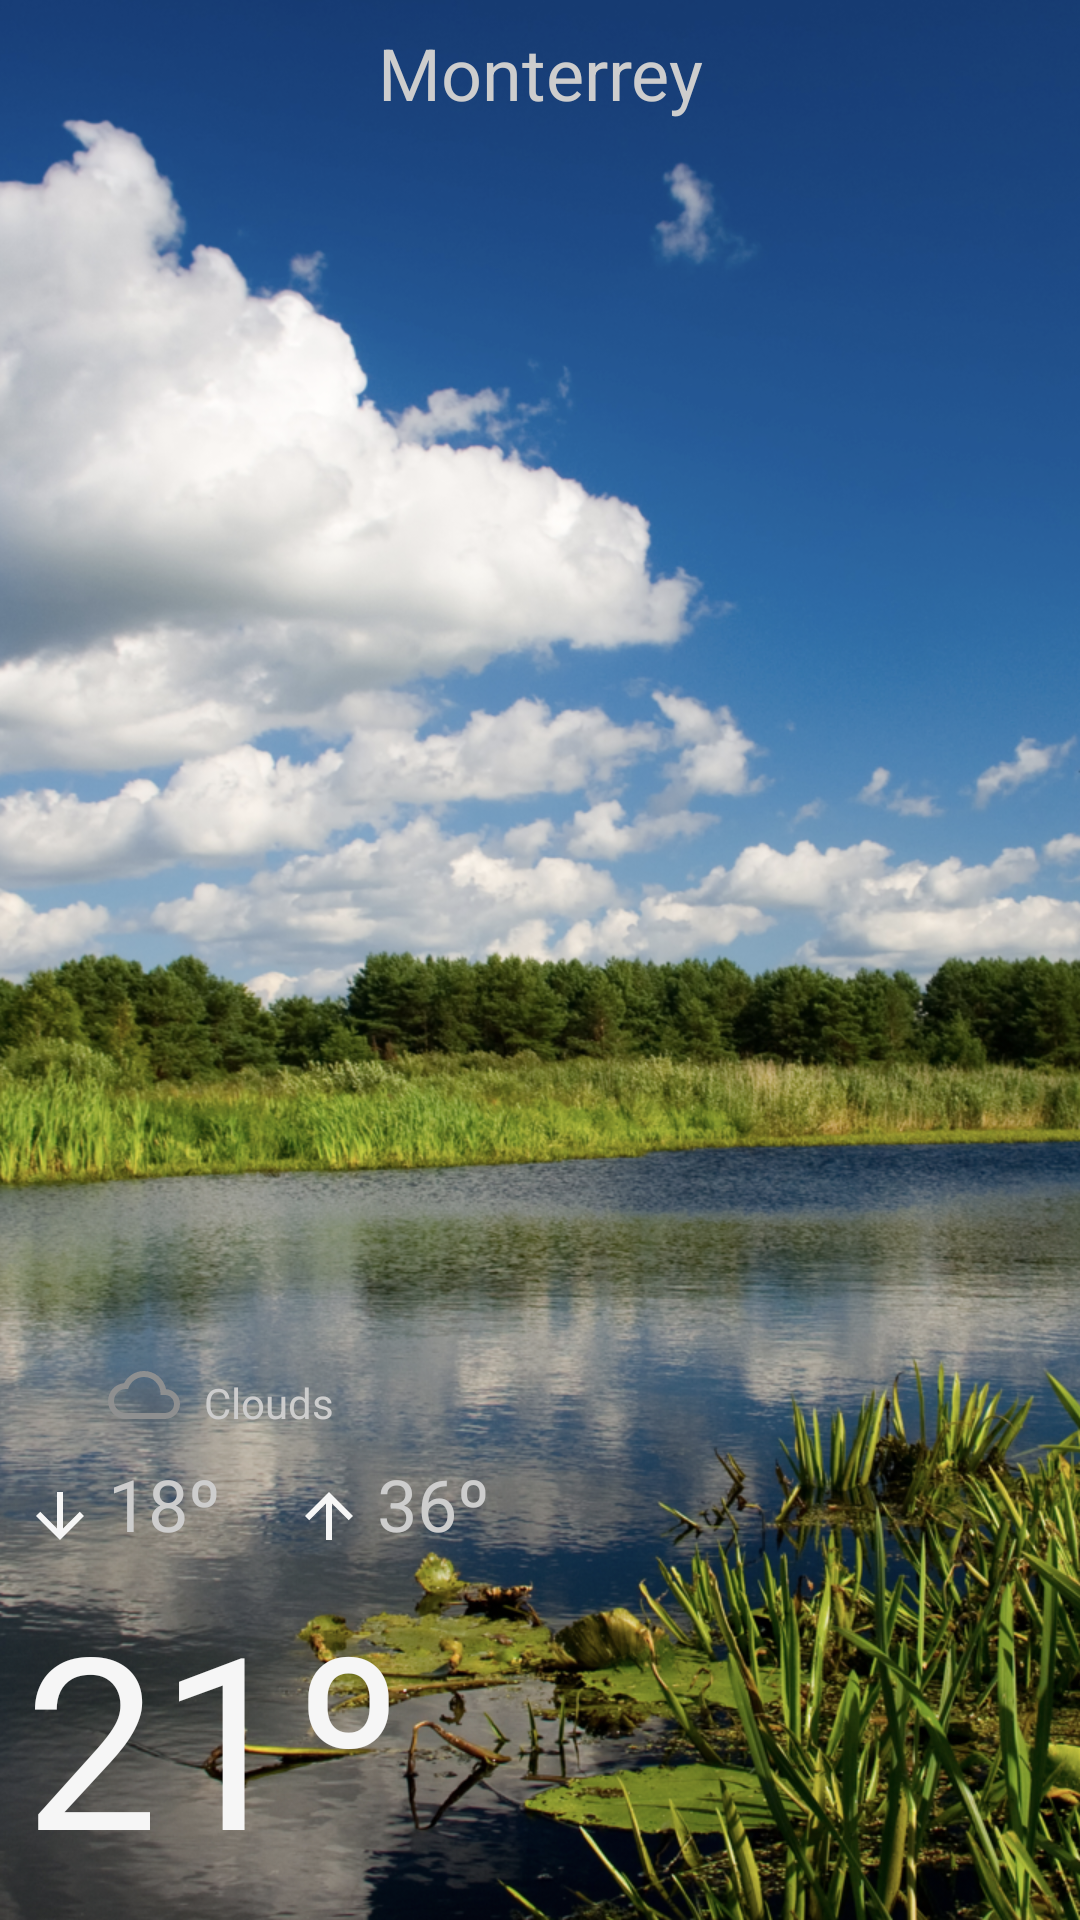

Point at icon controls on the screen. Image size 1080×1920, points as point (x, y).
arrow down: point (60, 1516)
arrow up: point (329, 1516)
